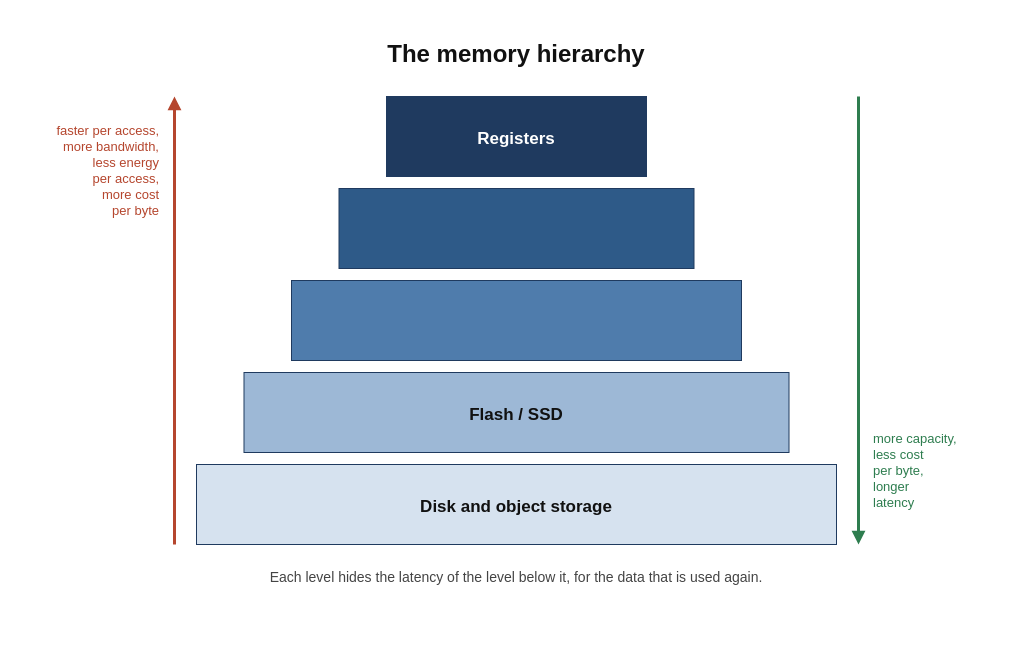
This 1033x653 diagram has some shape labels left out. The shapes that lost their labels are listed below. From the top down, each one's centre as x and y in pixels, then its label:
the point at 516,228: L1 / L2 / L3 cache (SRAM)
the point at 516,320: Main memory (DRAM)
